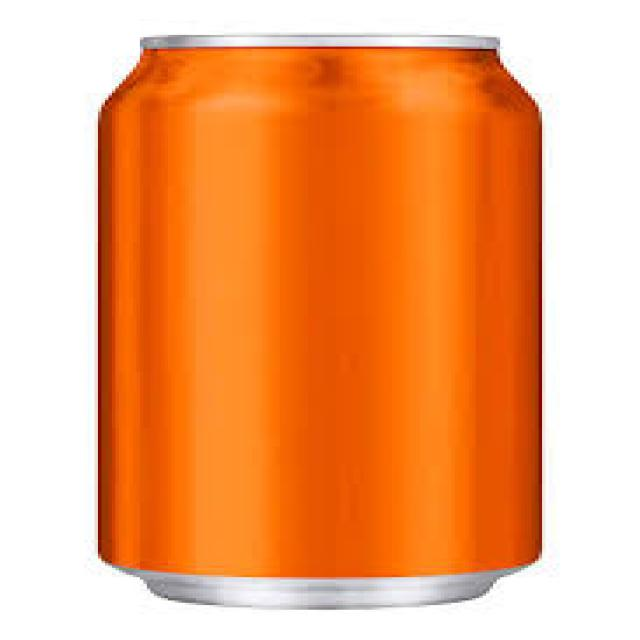Cans: (70, 21, 573, 624)
